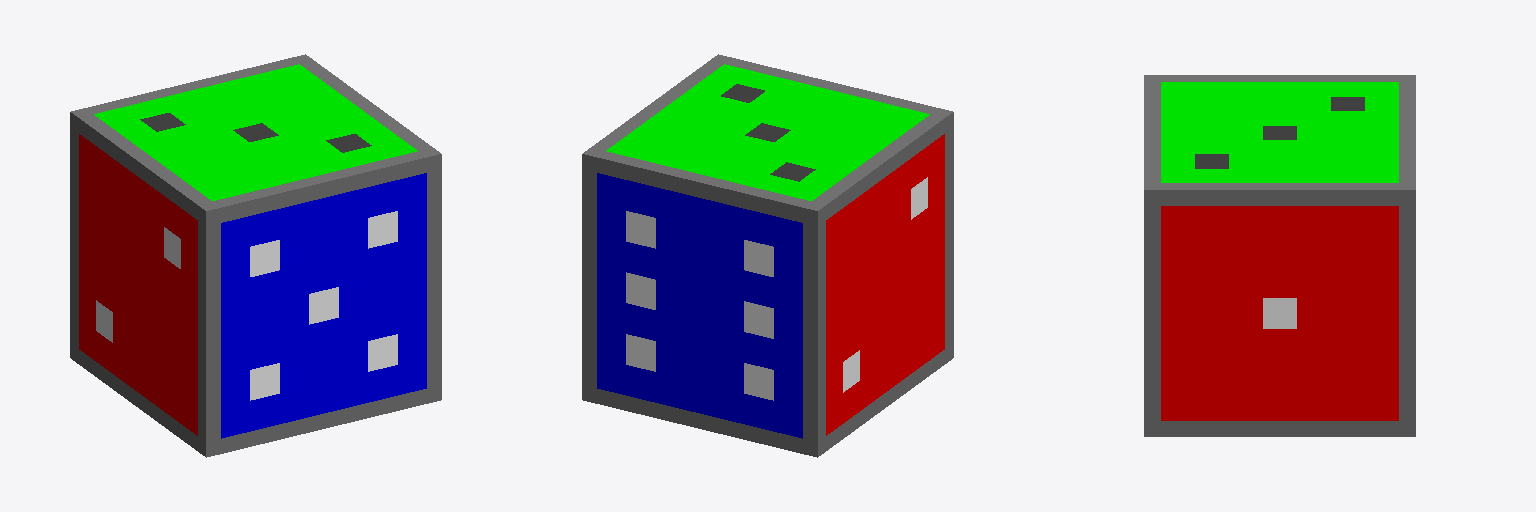
3 renders of one model, left to right at view 1: azimuth 30°, elevation 25°; view 2: azimuth 150°, elevation 25°; view 3: azimuth 270°, elevation 25°, orthographic.
Visible parts, largest first — view 1: cube; view 2: cube; view 3: cube.
Boxes of the visible parts, <box> form: cube: <box>70,54,441,457</box>; cube: <box>582,54,953,457</box>; cube: <box>1144,75,1415,436</box>.
Bounding box in the file's own units: 1 × 1 × 1.
Materials: 1 (1 with a texture image).